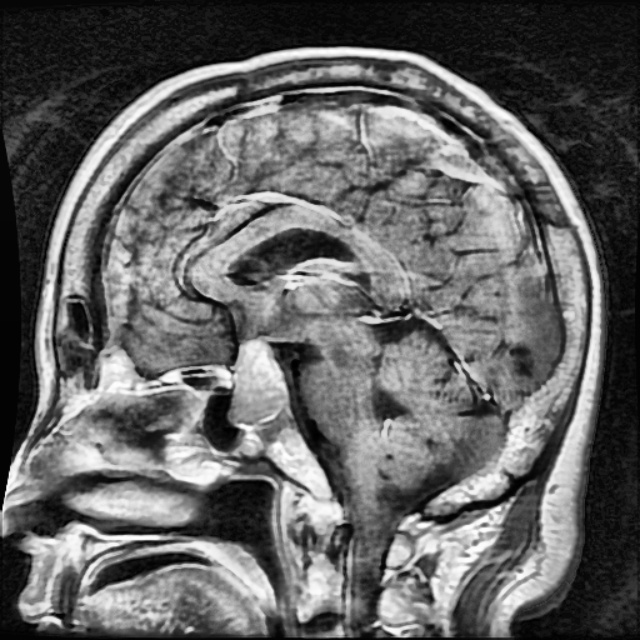Pituitary: (229, 337, 289, 429)
